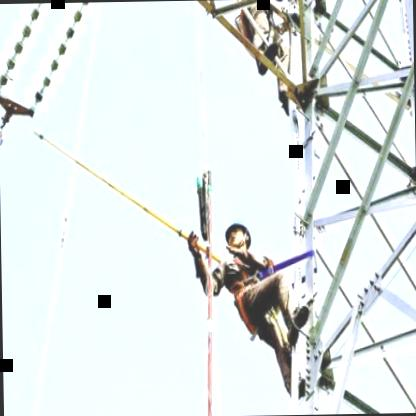helmet: (220, 212, 256, 260)
